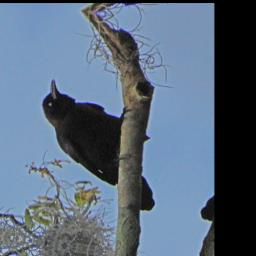Crow: (24, 78, 178, 213)
